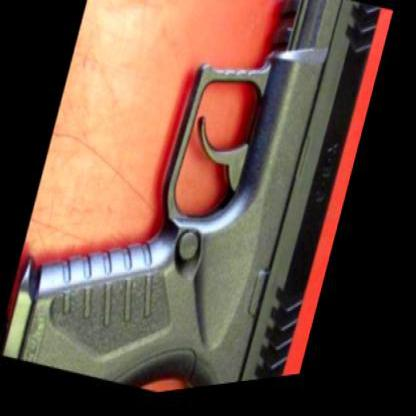pistol: (0, 0, 396, 412)
